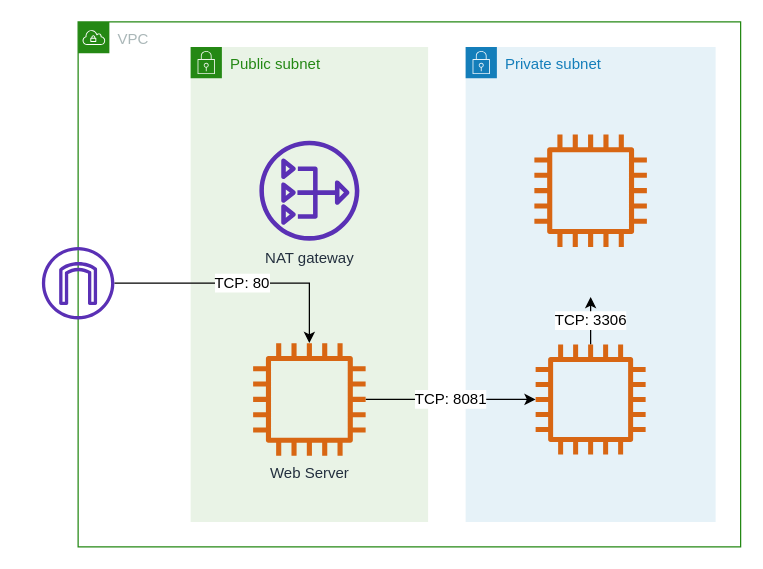
The diagram is 763 pixels wide and 569 high, and some of its shapes have lost their labels. The shapes that lost their labels are listed below. From the top down, each one's centre as x and y in pixels, then its label:
(590,190): Database Server 10.10.0.20
(77,282): Internet Gateway
(590,399): App Server 10.10.0.10
